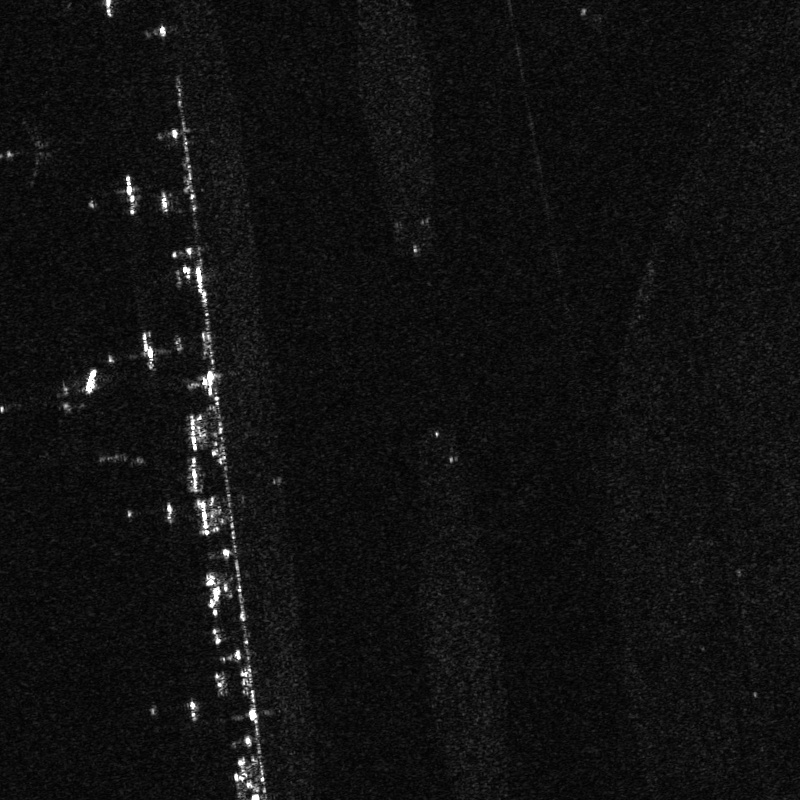Boeing737: (1, 116, 63, 192)
